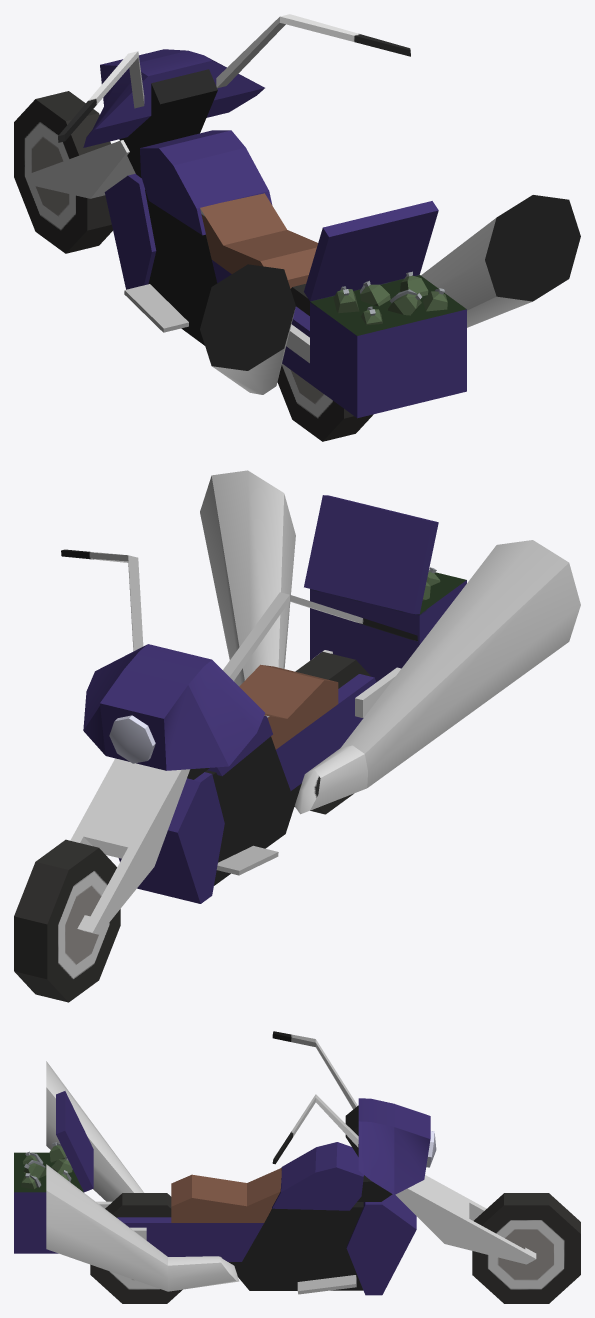
Rendered from MOTO2.fbx.
The picture shows the model from 3 angles, top to bottom: view 1: azimuth 30°, elevation 25°; view 2: azimuth 150°, elevation 25°; view 3: azimuth 270°, elevation 25°; orthographic projection. The views are drawn at different scales.
Visible parts, largest first — view 1: group9; view 2: group9; view 3: group9.
Part boxes in pixels (box(x1,y1,x2,y2)): group9: box(14, 14, 580, 441); group9: box(14, 470, 580, 1002); group9: box(14, 1031, 580, 1303).
Size of the model in its own units: 1.46 by 1.13 by 2.53.
Materials: 1 (1 with a texture image).
